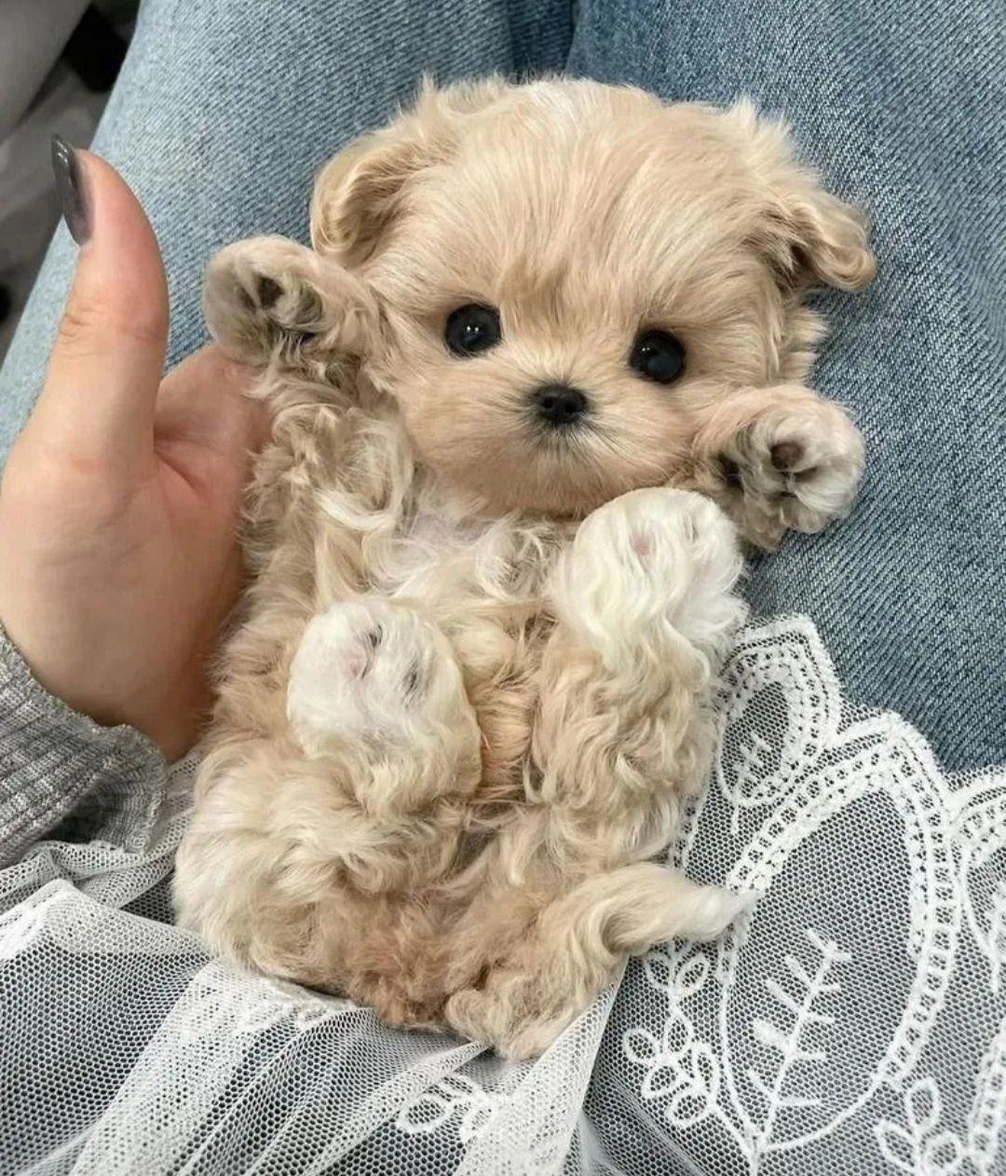puppy-dog: (172, 65, 882, 1064)
